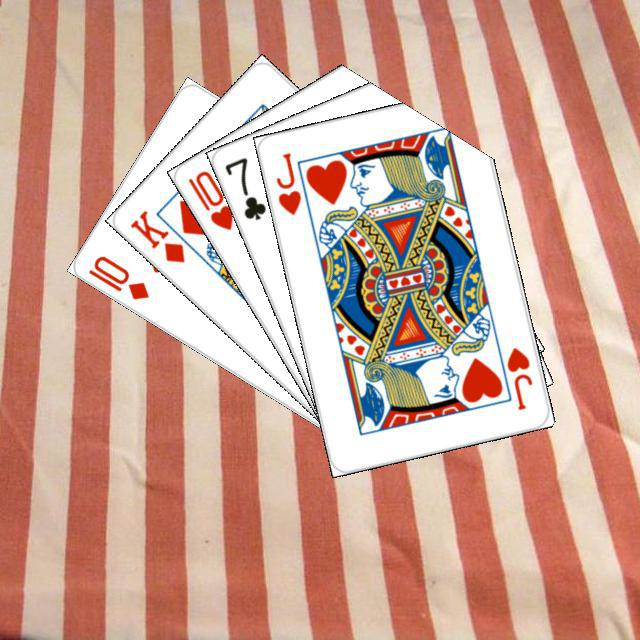10d: (83, 250, 151, 302)
10h: (183, 165, 235, 232)
7c: (219, 152, 268, 222)
Jh: (501, 342, 534, 412), (271, 147, 303, 217)
Kd: (125, 205, 187, 265)
